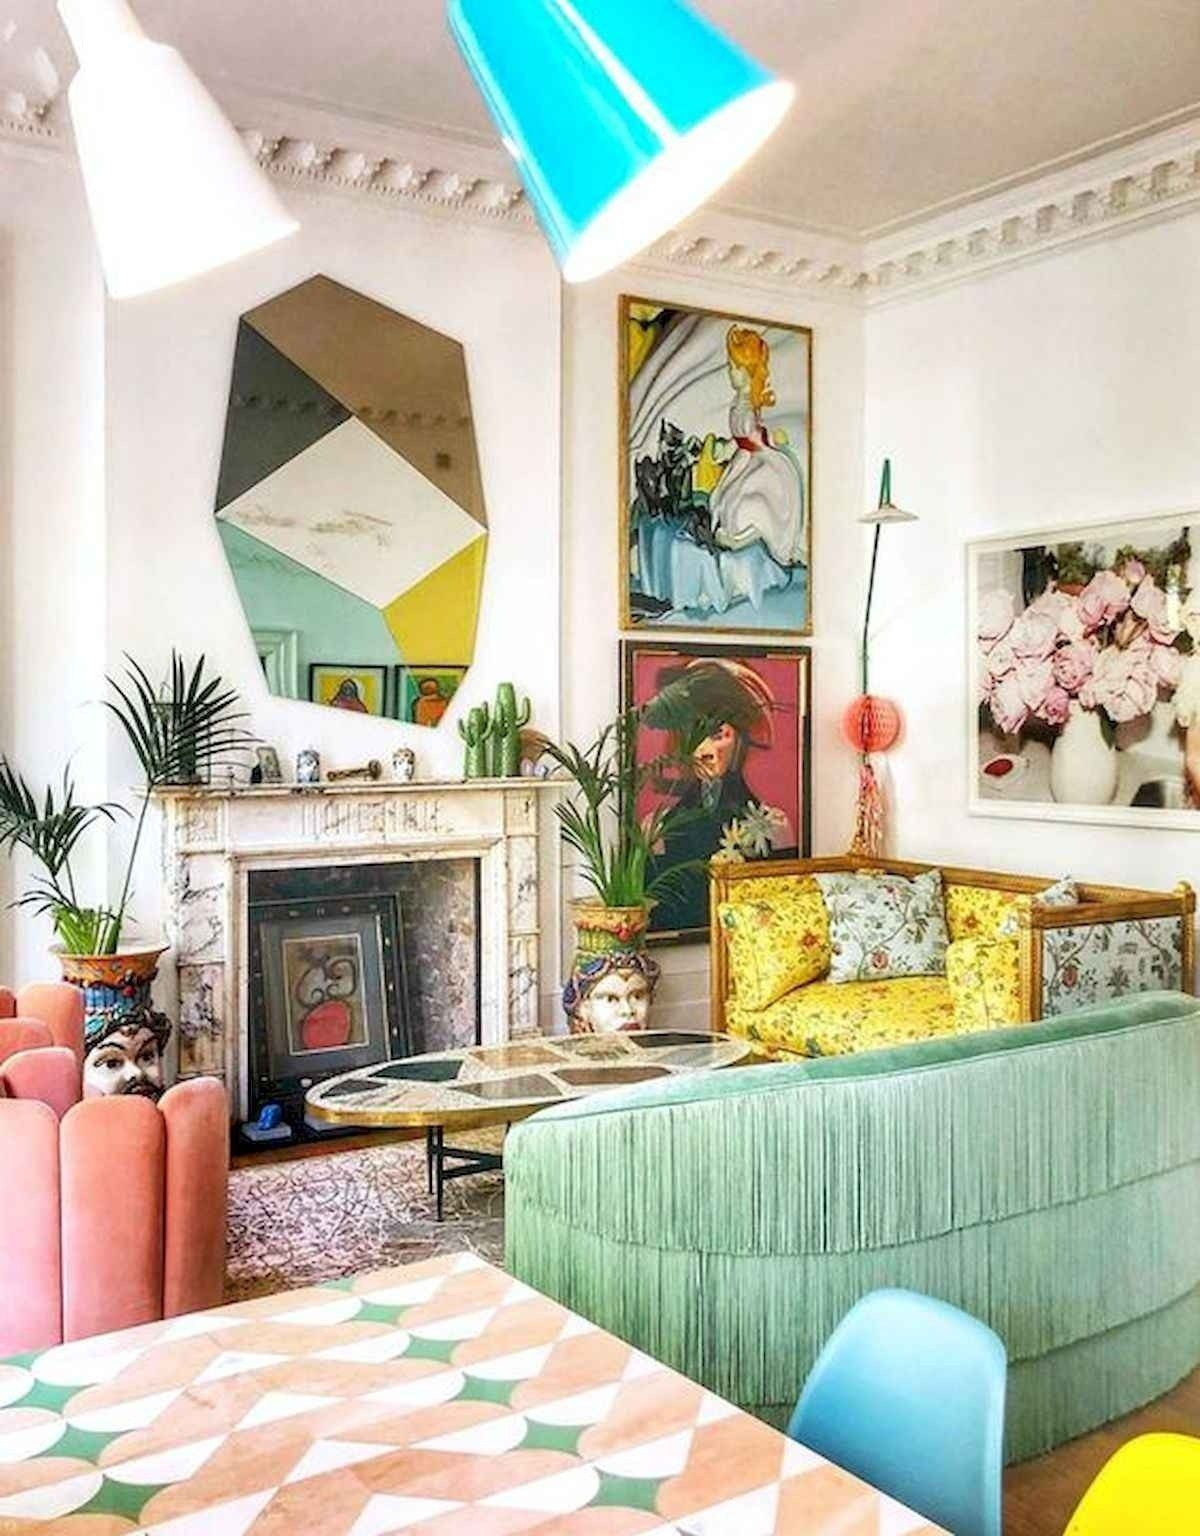biru: (409, 1, 780, 232), (767, 1302, 1023, 1510)
hijau: (498, 1001, 1200, 1386)
kuning: (1039, 1433, 1200, 1535)
pink: (7, 1092, 227, 1319)
putih: (52, 2, 294, 283)
